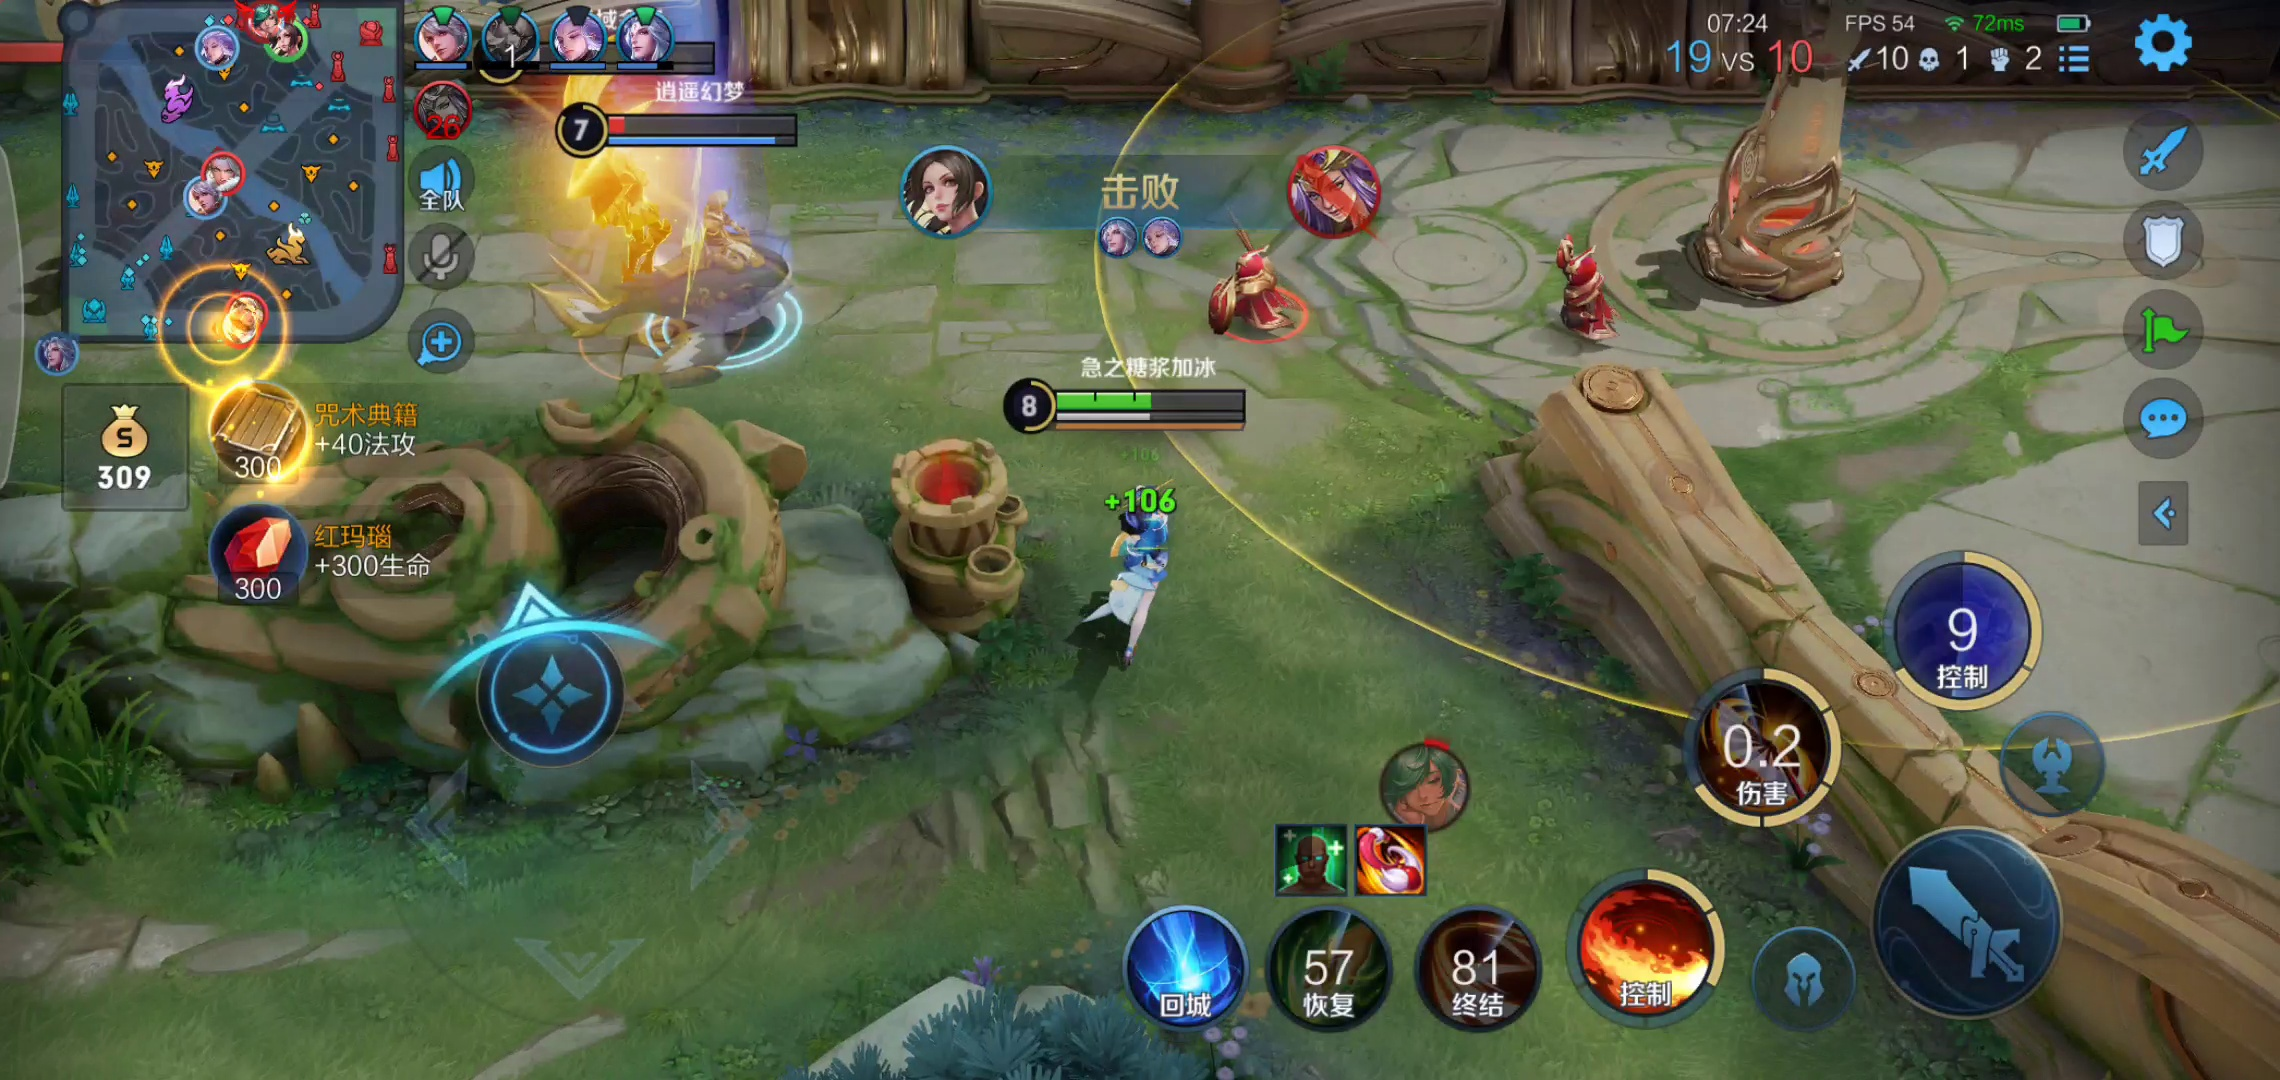grass: (1, 600, 148, 882)
hero: (558, 160, 814, 382), (1080, 474, 1181, 651)
soldier: (1192, 230, 1304, 342), (1540, 234, 1627, 344)
tower: (1703, 1, 1870, 298)
